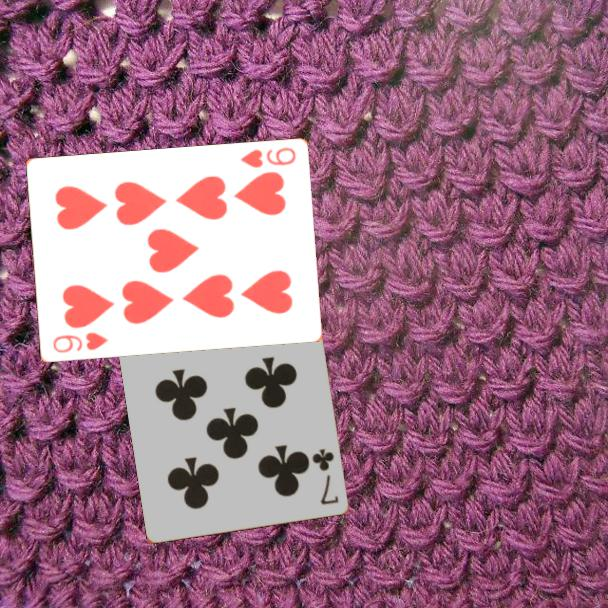c07: (309, 445, 342, 508)
h09: (49, 329, 111, 356), (237, 144, 298, 171)
